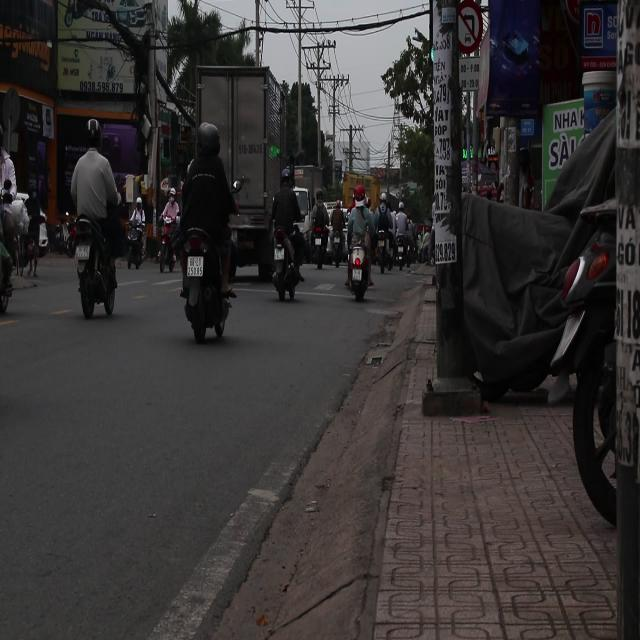motorbike: (179, 225, 236, 345), (71, 216, 119, 318), (272, 226, 305, 303), (346, 231, 376, 301), (125, 220, 146, 272), (157, 222, 178, 274), (54, 212, 76, 256), (393, 231, 412, 271), (312, 215, 324, 277)
